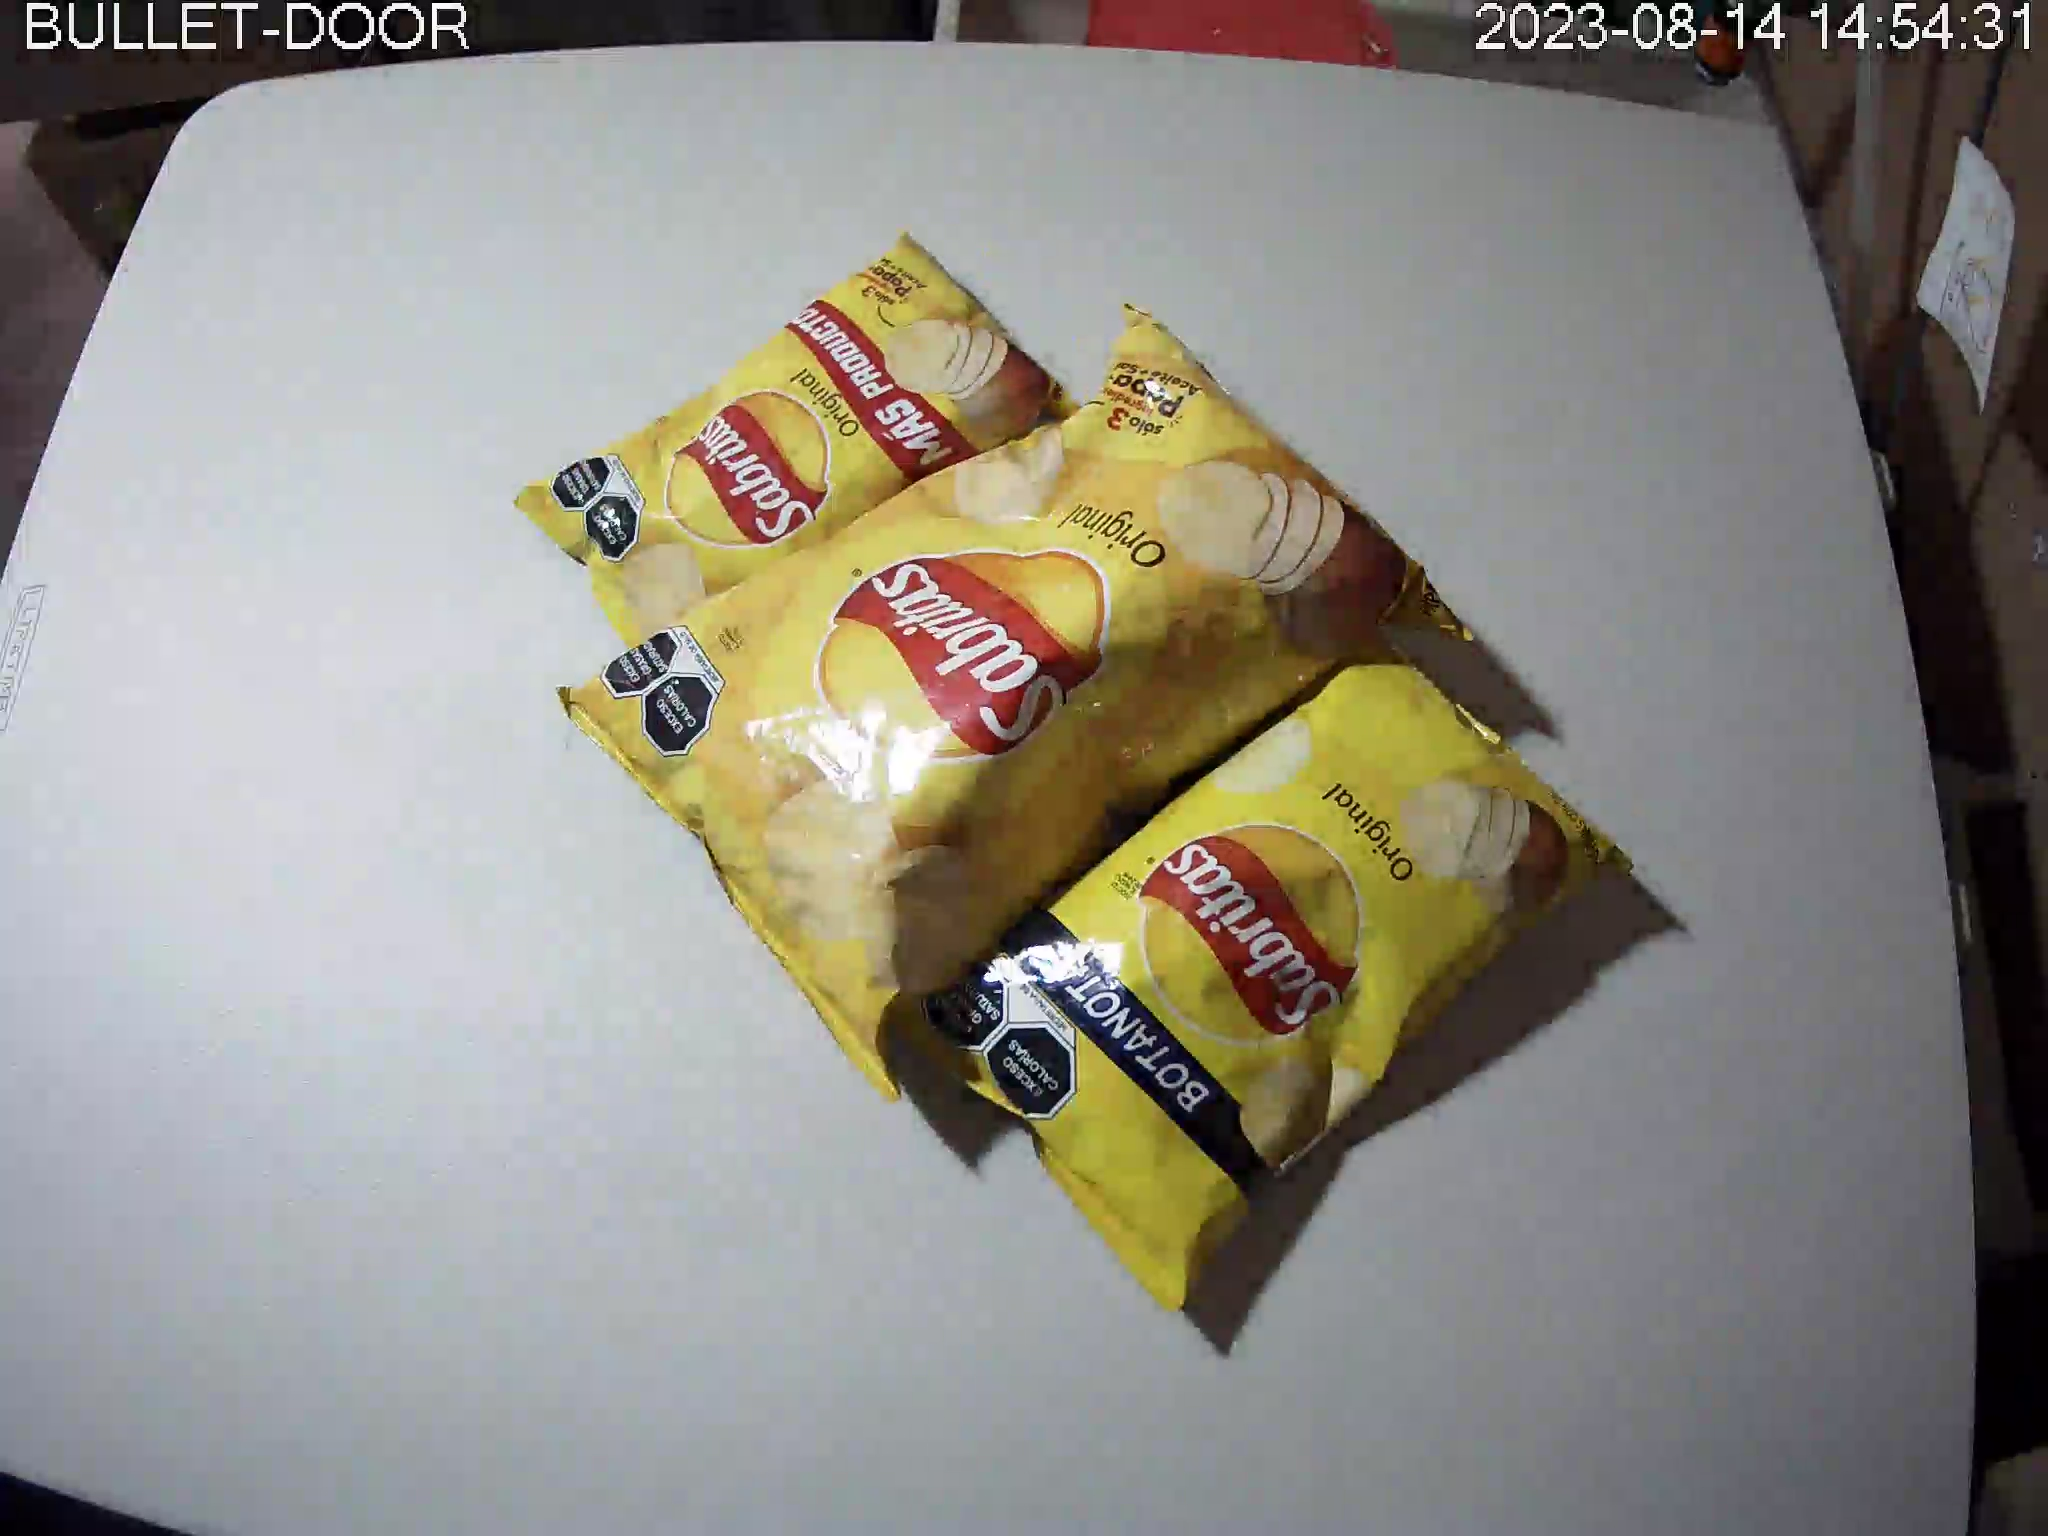Sabritas_160_F: (560, 303, 1479, 1099)
Sabritas_45_F: (513, 231, 1090, 670)
Sabritas_64_F: (868, 623, 1638, 1313)
